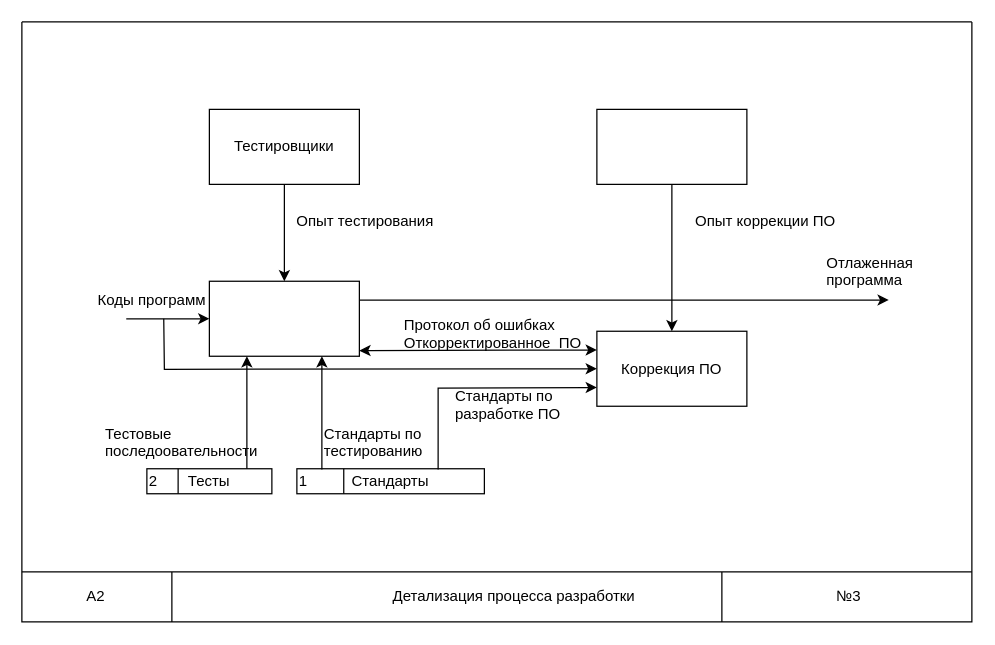
Some shapes in this 995 by 645 pixel diagram are drawn without their labels. The shapes that lost their labels are listed below. From the top down, each one's box as (x1, y1, x2, y2) in pixels, then its label:
(596, 108, 747, 184): Разработчики
(208, 280, 359, 356): Тестирование ПО
